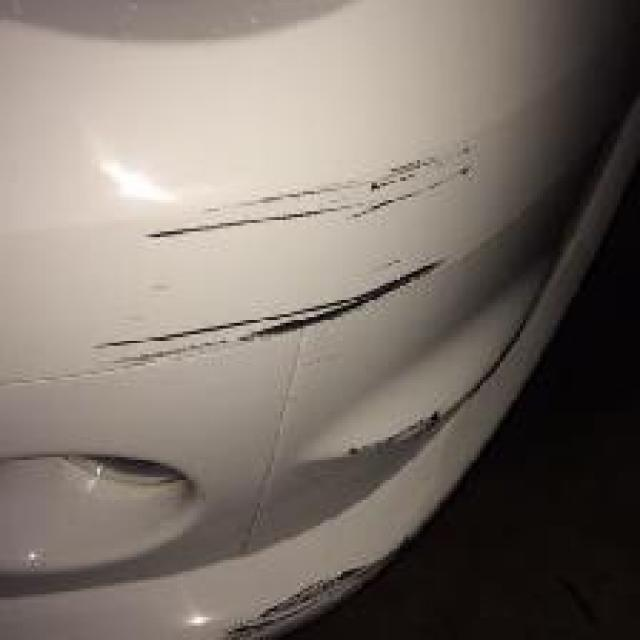damaged: (77, 142, 532, 638)
